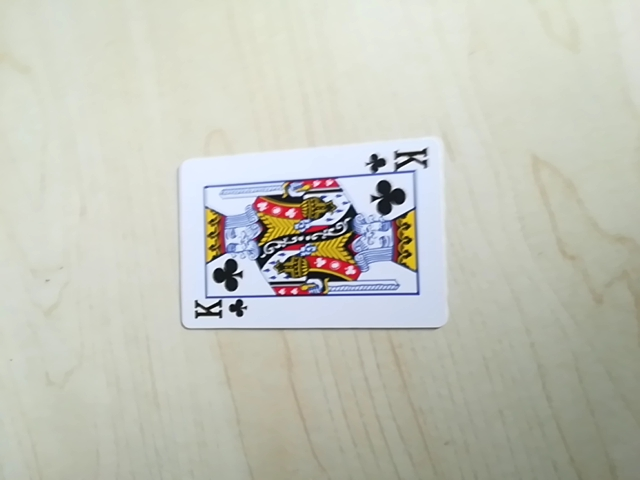mh k: (188, 294, 249, 327), (367, 145, 433, 174)
